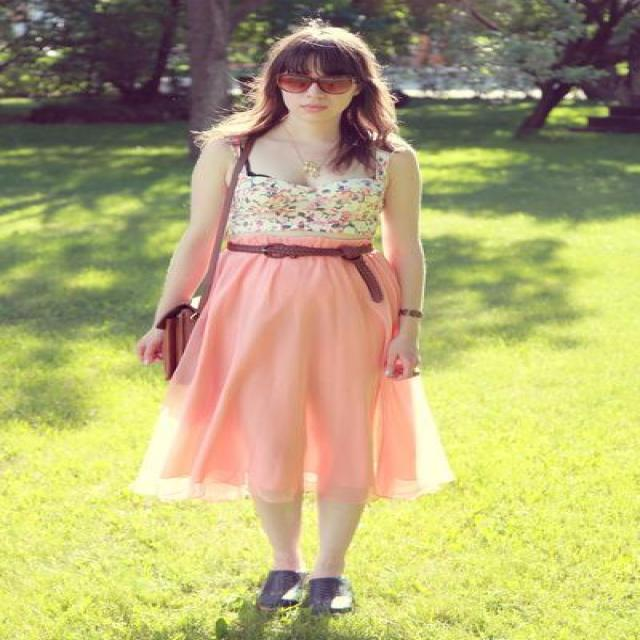bag: (156, 296, 202, 378)
shirt: (227, 192, 384, 247)
shoe: (253, 571, 349, 622)
skirt: (128, 248, 454, 508)
